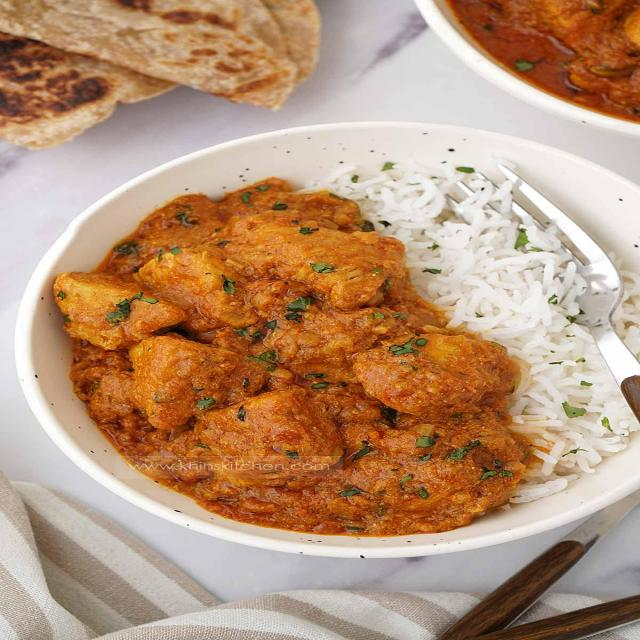chicken: (61, 191, 499, 546), (458, 2, 640, 102)
rice: (421, 161, 640, 476)
roti: (5, 4, 352, 135)
